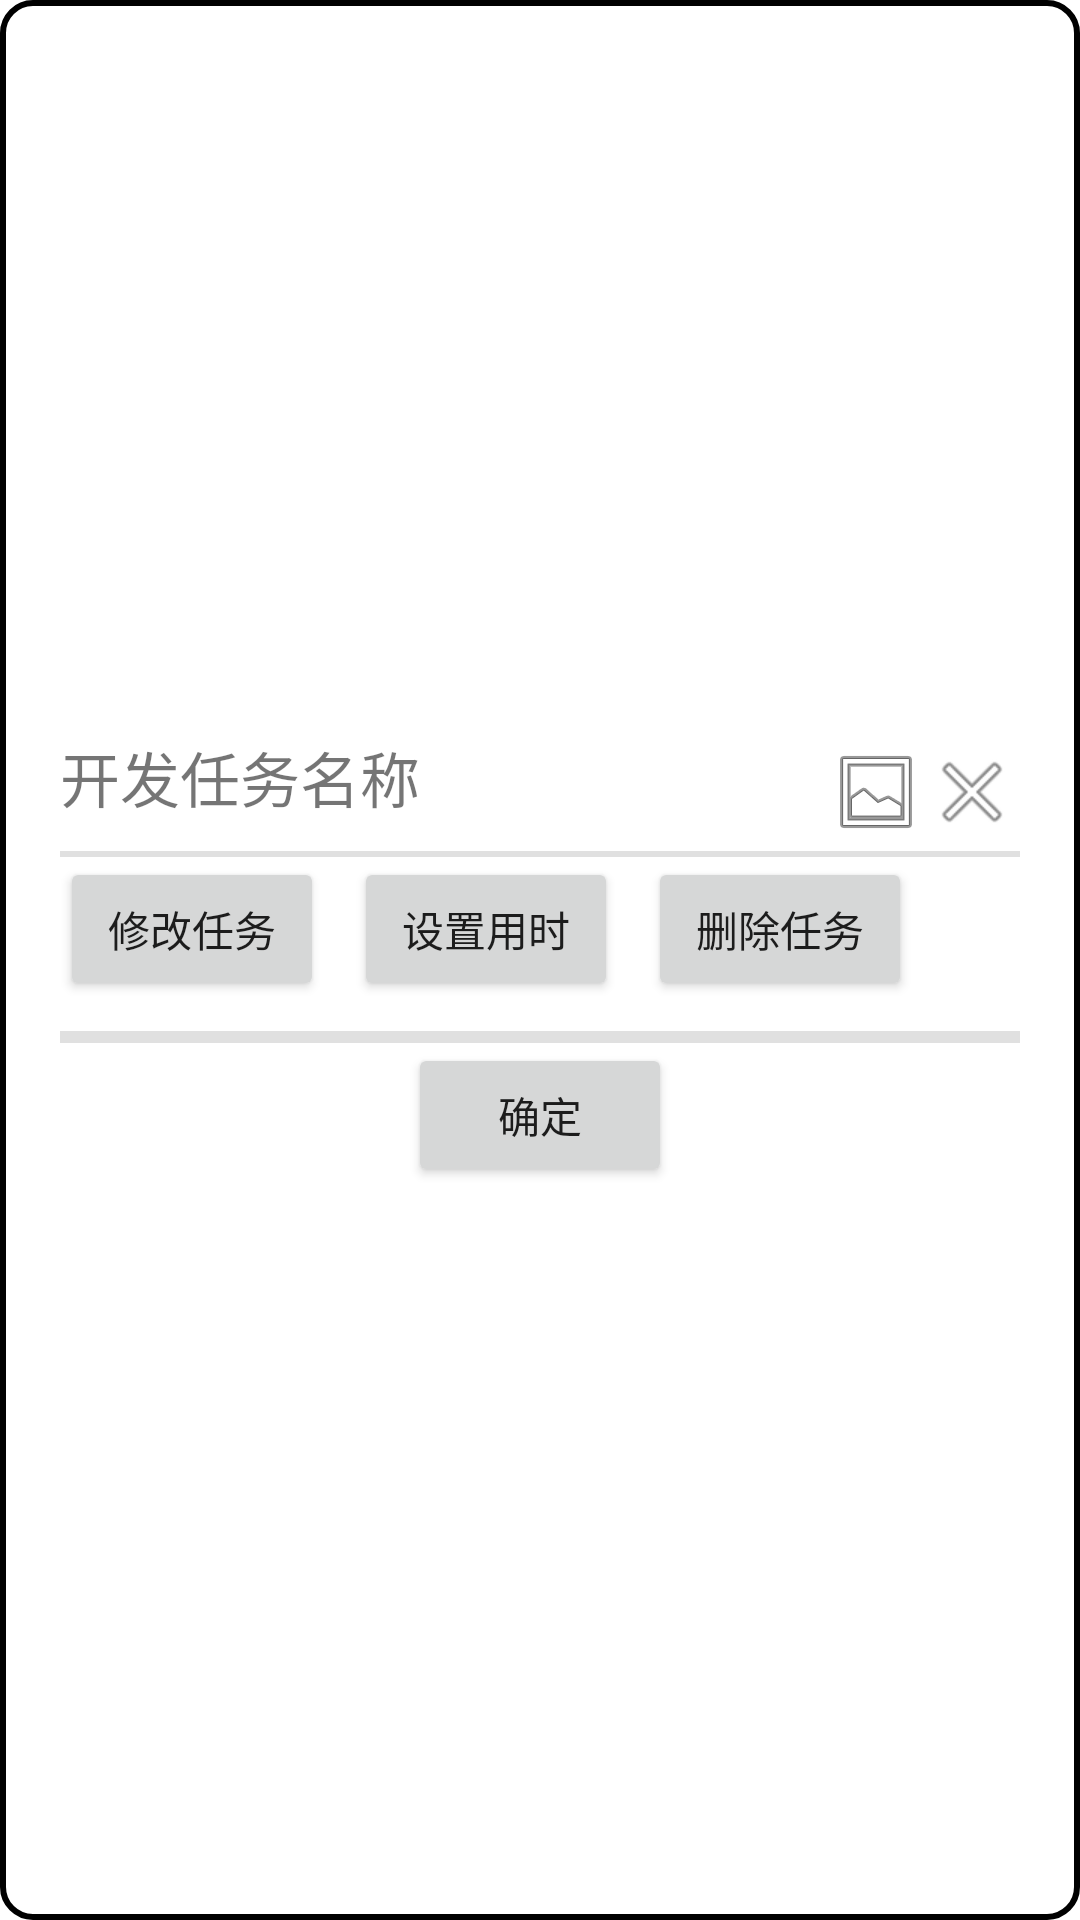

Icon bounding boxes for this 1080 × 1920 phone screenshot, format [x1,y1,x2,y2]:
关闭弹窗: [942,762,1002,822]
